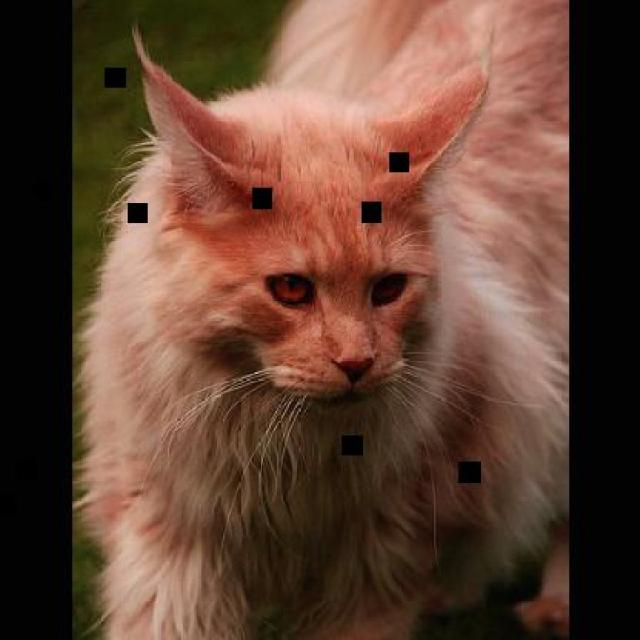unauthorized: (70, 0, 569, 638)
